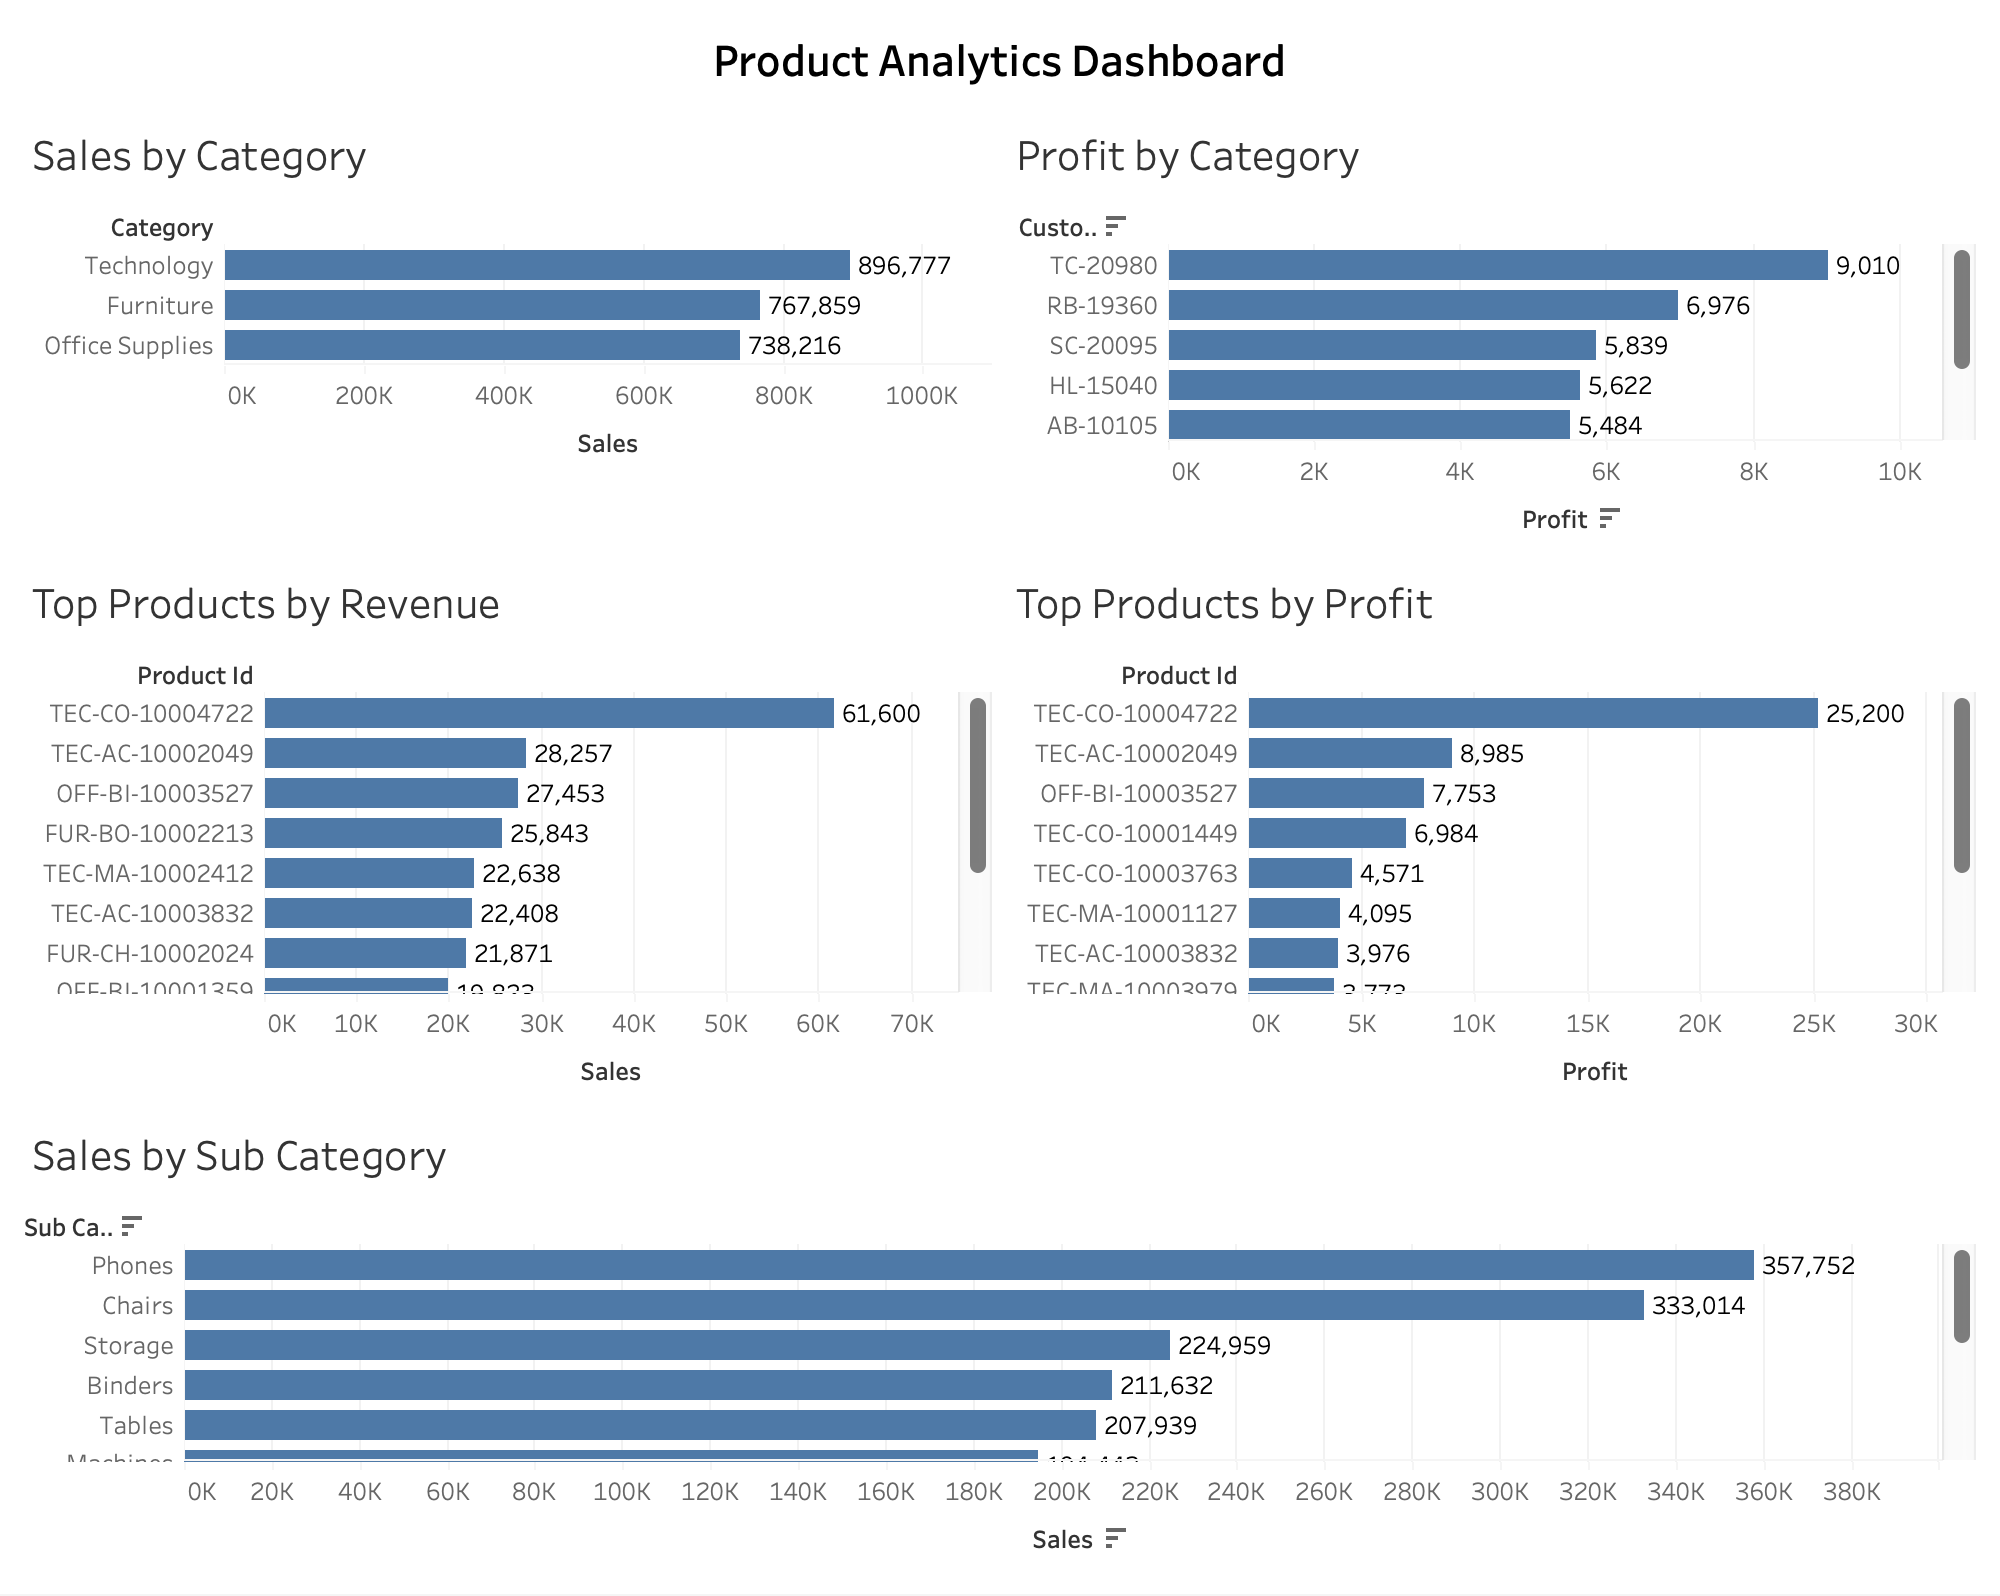

The page's visual inventory and layout, read from the dashboard file:
{"tool":"tableau","page":{"name":"Product Analytics","canvas":[1000,800],"ordinal":2},"visuals":[{"type":"text","box":[8,8,984,50.1]},{"type":"worksheet","title":"Sales by Category","mark":"Automatic","rows":["category"],"cols":["sales"],"box":[8,58.1,492,223.9]},{"type":"worksheet","title":"Profit by Category","mark":"Automatic","rows":["customer_id"],"cols":["profit"],"box":[500,58.1,492,223.9]},{"type":"worksheet","title":"Top Products by Revenue","mark":"Automatic","rows":["product_id"],"cols":["sales"],"box":[8,282,492,276]},{"type":"worksheet","title":"Top Products by Profit","mark":"Automatic","rows":["product_id"],"cols":["profit"],"box":[500,282,492,276]},{"type":"worksheet","title":"Sales by Sub Category","mark":"Automatic","rows":["sub_category"],"cols":["sales"],"box":[8,558,984,234]}]}

Visuals, with their boxes in screenshot pixels (x1, y1, x2, y2), scaled from the page's 1000x800 canvas onto the 2000x1596 screenshot:
text: {"left": 16, "top": 16, "right": 1984, "bottom": 116}
"Sales by Category" worksheet: {"left": 16, "top": 116, "right": 1000, "bottom": 563}
"Profit by Category" worksheet: {"left": 1000, "top": 116, "right": 1984, "bottom": 563}
"Top Products by Revenue" worksheet: {"left": 16, "top": 563, "right": 1000, "bottom": 1113}
"Top Products by Profit" worksheet: {"left": 1000, "top": 563, "right": 1984, "bottom": 1113}
"Sales by Sub Category" worksheet: {"left": 16, "top": 1113, "right": 1984, "bottom": 1580}
